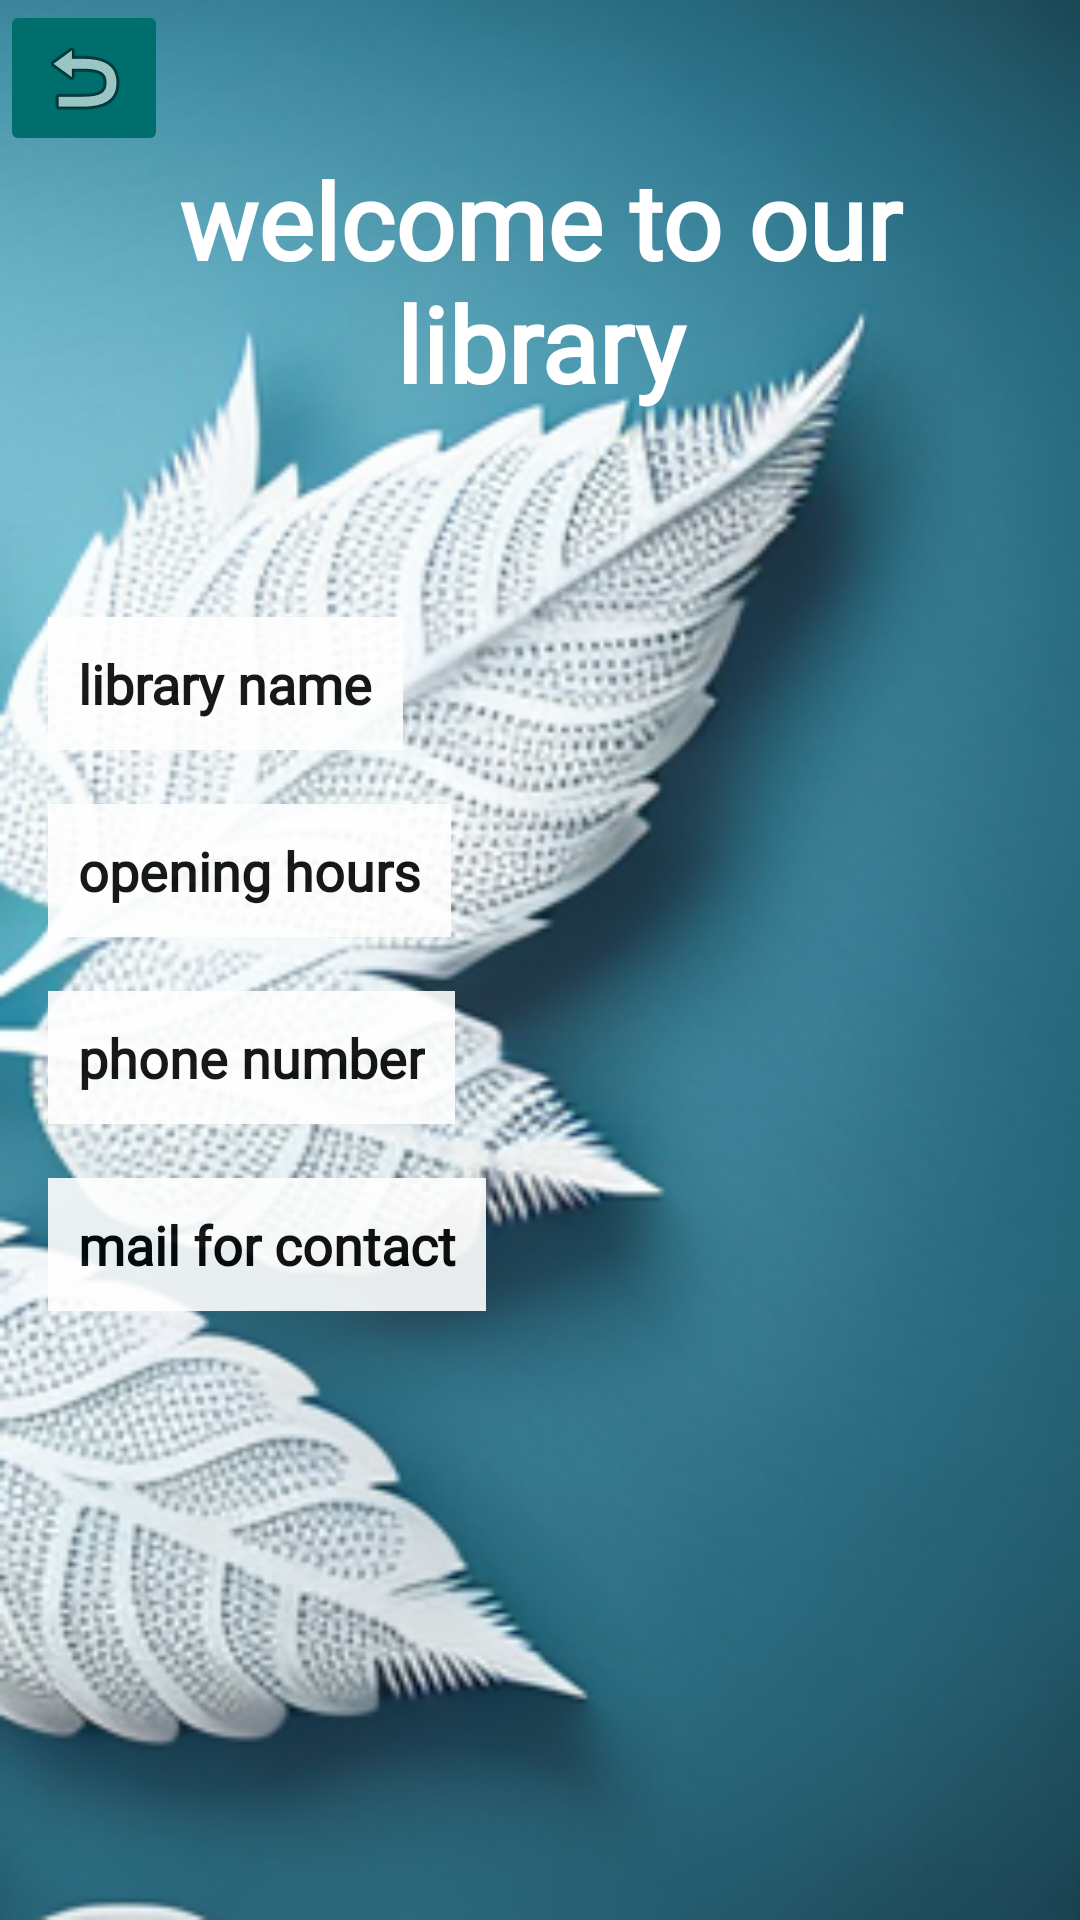

Point at icon controls on the screen. Image size 1080px x 1920px, points as (x,y).
revert: (84,69)
